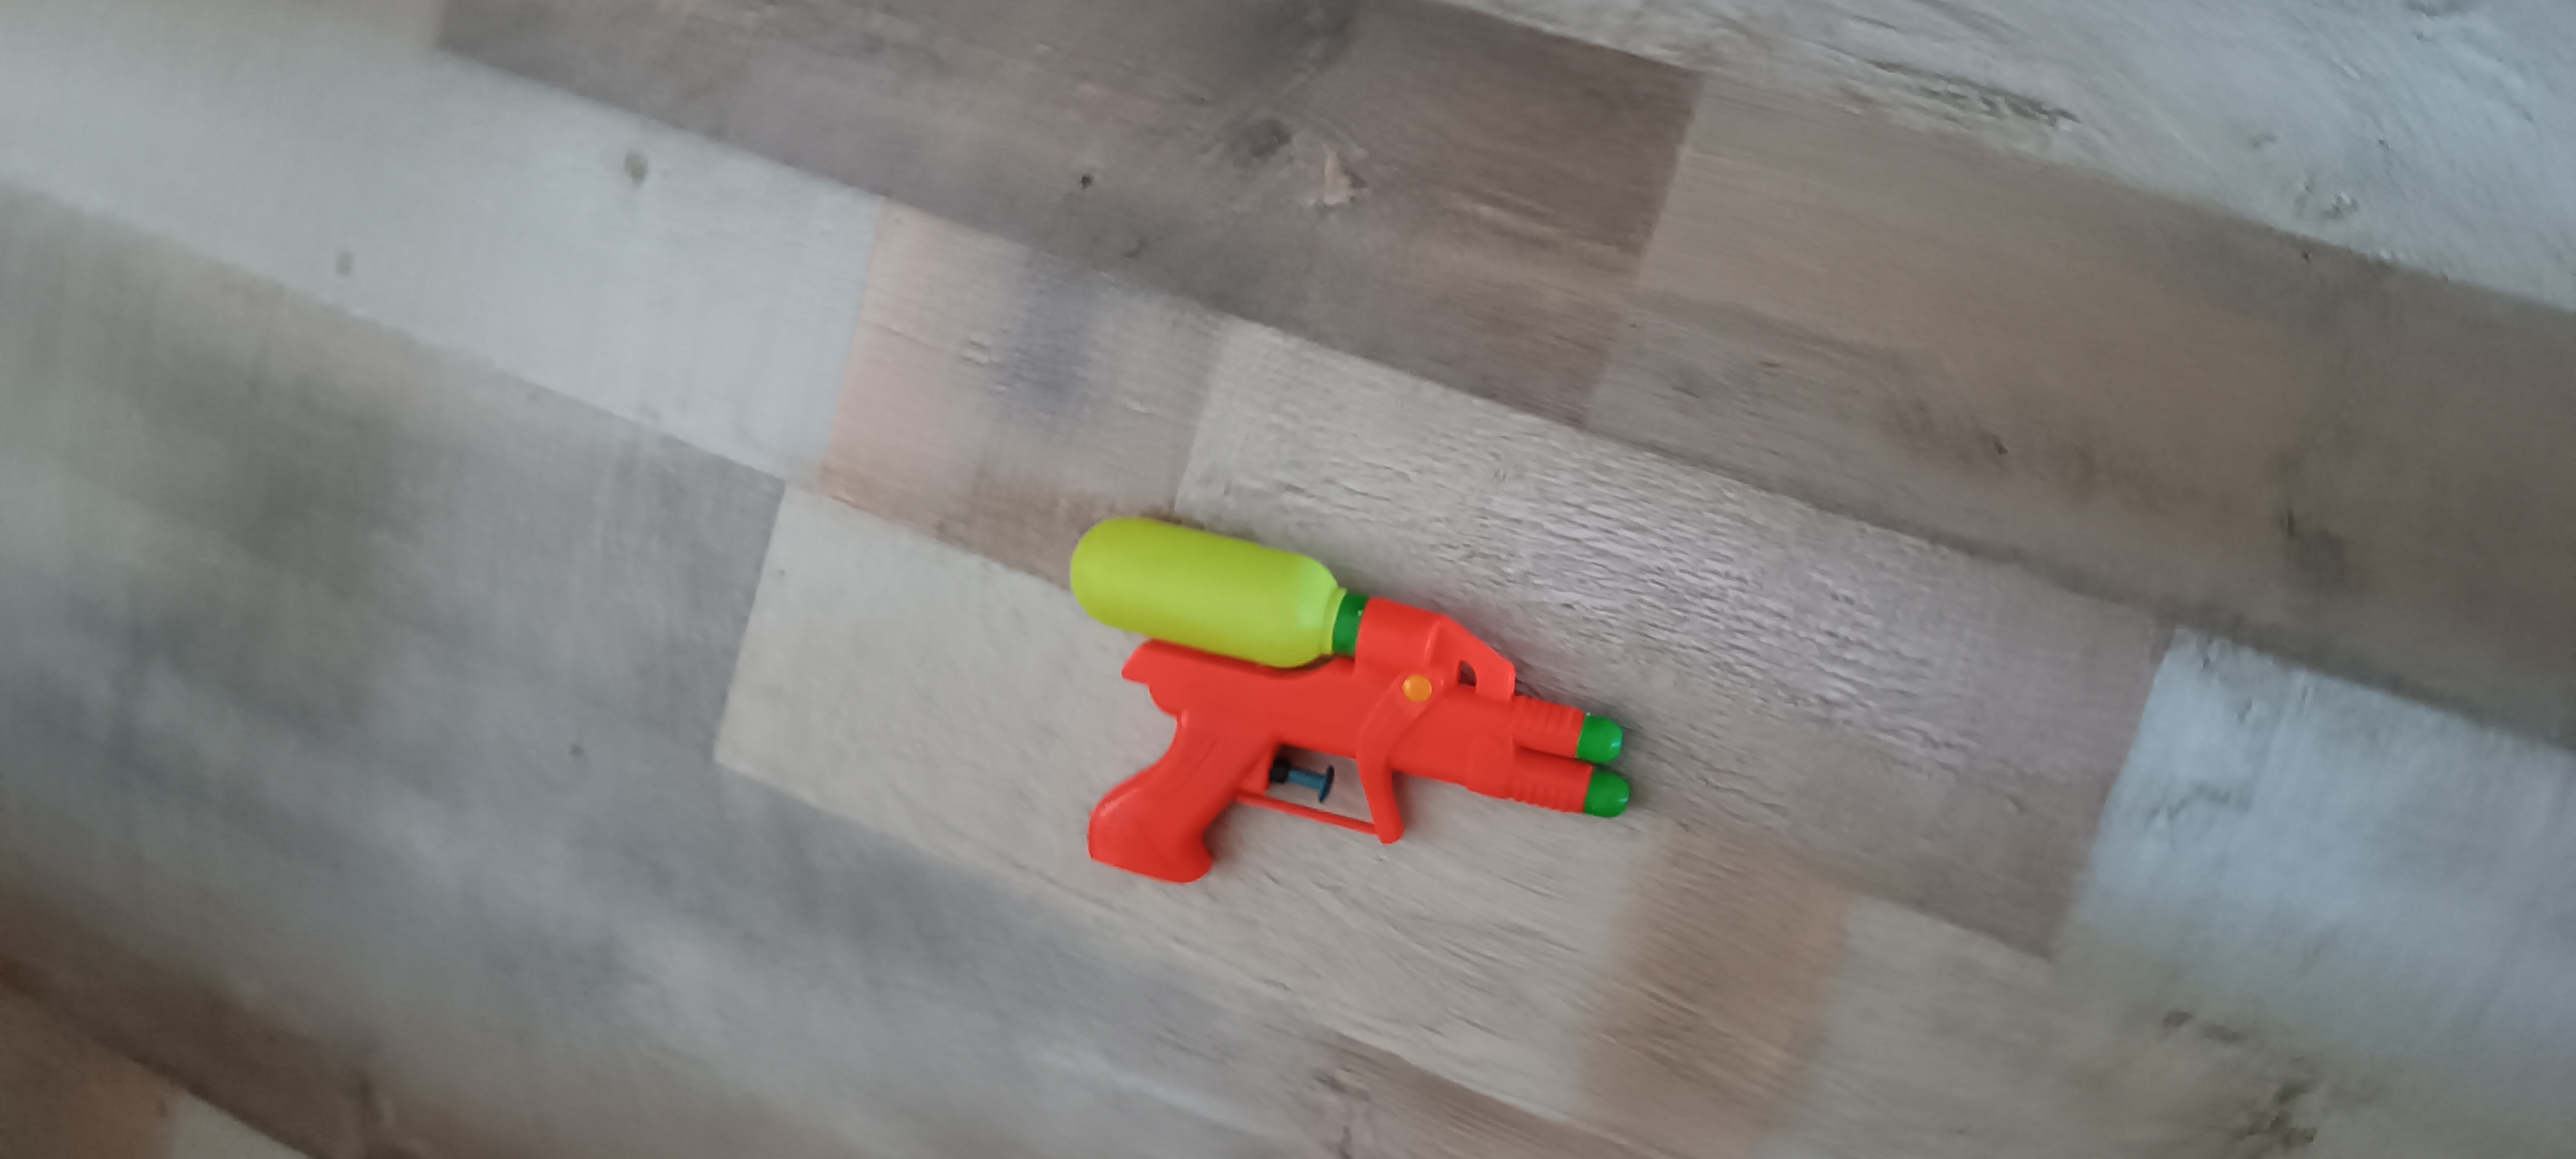Water Gun: (1068, 514, 1633, 885)
